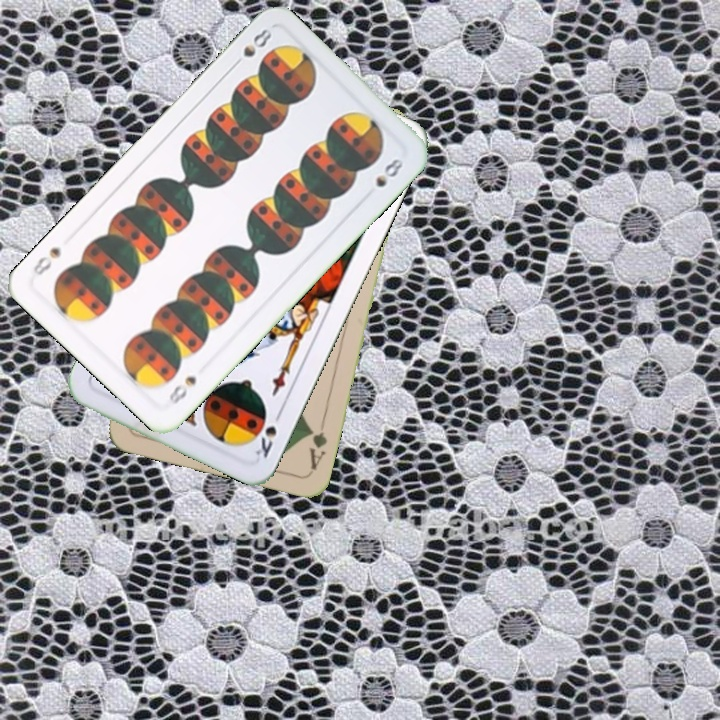GA: (304, 424, 330, 473)
S8: (227, 24, 275, 71), (165, 372, 200, 407)
SK: (251, 406, 285, 461)
